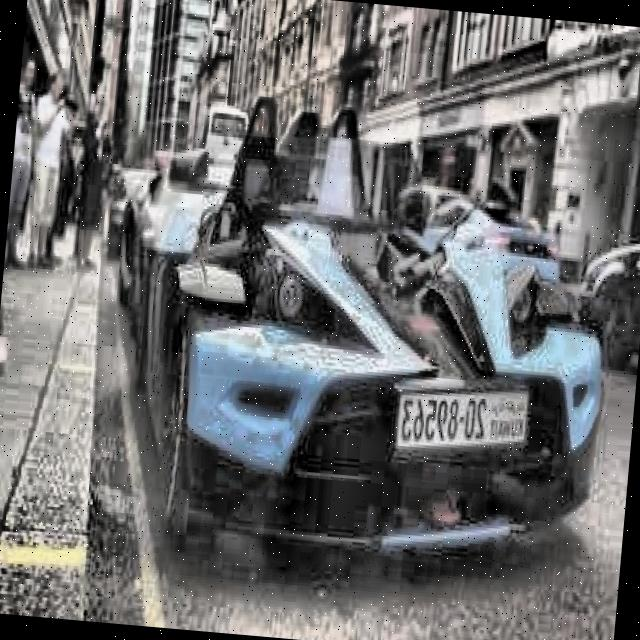license_plate: (396, 377, 530, 458)
